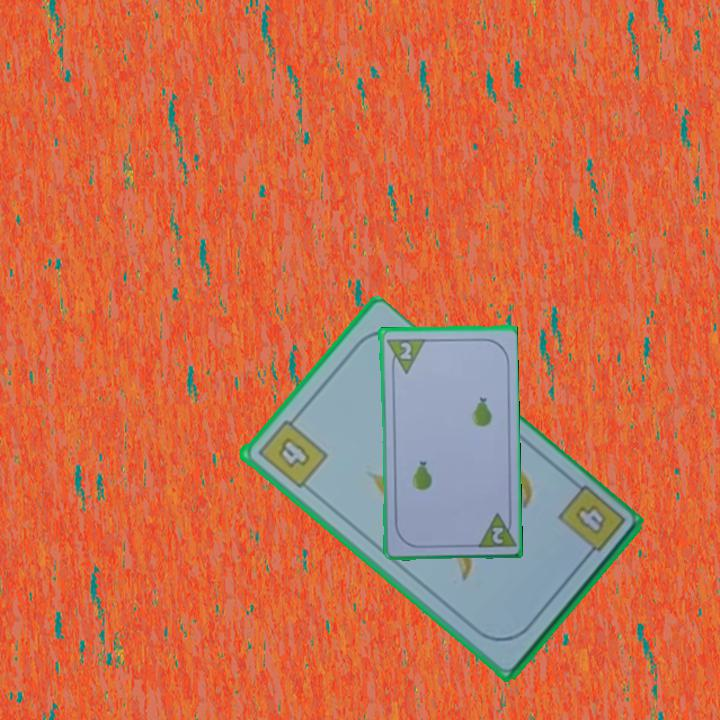2p: (472, 508, 517, 550), (382, 334, 426, 376)
4b: (253, 410, 330, 491), (554, 482, 628, 565)
